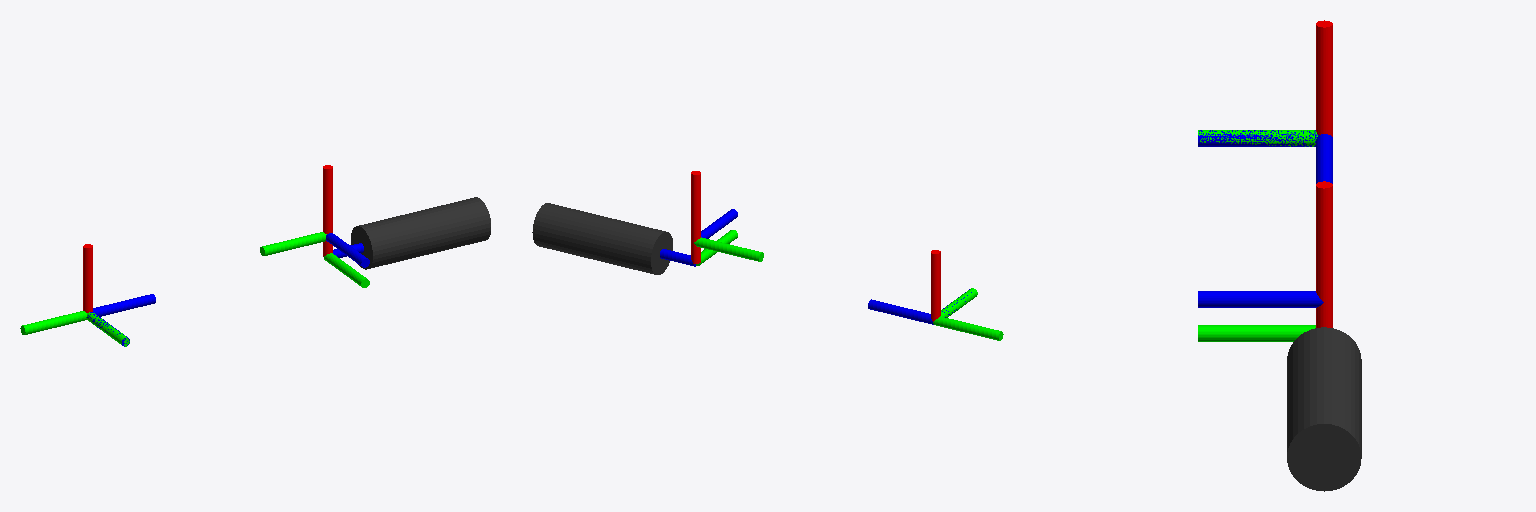
robot.urdf — wam_4dof:
<?xml version="1.0" ?>

<robot name="wam_4dof">

    <material name="dark_red">
        <color rgba="0.78 0. 0. 1."/>
    </material>

    <material name="black">
        <color rgba="0.05 0.05 0.05 1"/>
    </material>

    <material name="red">
        <color rgba="1 0 0 1"/>
    </material>

    <material name="green">
        <color rgba="0 1 0 1"/>
    </material>

    <material name="blue">
        <color rgba="0 0 1 1"/>
    </material>

    <material name="dark">
        <color rgba=".25 .25 .25 1"/>
    </material>

    <material name="lightest_grey">
        <color rgba="0.85 0.85 0.85 1"/>
    </material>

    <material name="light_grey">
        <color rgba="0.78 0.75 0.7 1"/>
    </material>

    <material name="dark_grey">
        <color rgba="0.6 0.6 0.6 1"/>
    </material>

    <link name="links/world"/>

    <link name="links/base">
        <inertial>
            <mass value="9.97059584"/>
            <origin xyz="0.1998 -0.1260 0.2053" rpy="1.5605 0.0894 0.6977"/>
            <inertia ixx="0.08709498" ixy="0." ixz="0." iyy="0.13911978" iyz="0." izz="0.18350061"/>
        </inertial>
        <visual>
            <origin xyz="0.22 0.14 0." rpy="0 0 0"/>
            <geometry name="wam_base_visual">
                <mesh filename="base_link_fine.stl"/>
            </geometry>
            <material name="light_grey"/>
        </visual>
        <collision>
            <origin xyz="0.22 0.14 0.346" rpy="0 0 0"/>
            <geometry name="wam_base_collision">
                <mesh filename="base_link_convex.stl"/>
            </geometry>
        </collision>
    </link>

    <link name="frames/0">
        <visual>
            <origin xyz="0.075 0 0" rpy="0 1.570796327 0"/>
            <geometry name="x_axis">
                <cylinder length="0.15" radius="0.01"/>
            </geometry>
            <material name="red"/>
        </visual>
        <visual>
            <origin xyz="0 0.075 0" rpy="1.570796327 0 0"/>
            <geometry name="y_axis">
                <cylinder length="0.15" radius="0.01"/>
            </geometry>
            <material name="green"/>
        </visual>
        <visual>
            <origin xyz="0 0 0.075" rpy="0 0 0"/>
            <geometry name="z_axis">
                <cylinder length="0.15" radius="0.01"/>
            </geometry>
            <material name="blue"/>
        </visual>
    </link>

    <link name="links/shoulder_yaw">
        <inertial>
            <mass value="10.76768767"/>
            <origin xyz="-0.0044 -0.0007 -0.1219" rpy="1.6016 0.0973 1.5751"/>
            <inertia ixx="0.09044192" ixy="0." ixz="0." iyy="0.11309685" iyz="0." izz="0.13508855"/>
        </inertial>
        <visual>
            <origin rpy="0 0 0" xyz="0 0 0"/>
            <geometry name="link_shoulder_yaw_visual">
                <mesh filename="shoulder_link_fine.stl"/>
            </geometry>
            <material name="light_grey"/>
        </visual>
        <collision>
            <origin rpy="0 0 0" xyz="0 0 0"/>
            <geometry name="link_shoulder_yaw_collision1">
                <mesh filename="shoulder_link_convex_decomposition_p1.stl"/>
            </geometry>
        </collision>
        <collision>
            <origin rpy="0 0 0" xyz="0 0 0"/>
            <geometry name="link_shoulder_yaw_collision2">
                <mesh filename="shoulder_link_convex_decomposition_p2.stl"/>
            </geometry>
        </collision>
        <collision>
            <origin rpy="0 0 0" xyz="0 0 0"/>
            <geometry name="link_shoulder_yaw_collision3">
                <mesh filename="shoulder_link_convex_decomposition_p3.stl"/>
            </geometry>
        </collision>
    </link>

    <link name="frames/1">
        <visual>
            <origin xyz="0.075 0 0" rpy="0 1.570796327 0"/>
            <geometry name="x_axis">
                <cylinder length="0.15" radius="0.01"/>
            </geometry>
            <material name="red"/>
        </visual>
        <visual>
            <origin xyz="0 0.075 0" rpy="1.570796327 0 0"/>
            <geometry name="y_axis">
                <cylinder length="0.15" radius="0.01"/>
            </geometry>
            <material name="green"/>
        </visual>
        <visual>
            <origin xyz="0 0 0.075" rpy="0 0 0"/>
            <geometry name="z_axis">
                <cylinder length="0.15" radius="0.01"/>
            </geometry>
            <material name="blue"/>
        </visual>
    </link>

    <link name="links/shoulder_pitch">
        <inertial>
            <mass value="3.87493756"/>
            <origin xyz="-0.0024 -0.0154 0.0311" rpy="0.5527 -0.0348 -1.5459"/>
            <inertia ixx="0.01264653" ixy="0." ixz="0." iyy="0.01671014" iyz="0." izz="0.02142072"/>
        </inertial>
        <visual>
            <origin rpy="0 0 0" xyz="0 0 0"/>
            <geometry name="link_shoulder_pitch_visual">
                <mesh filename="shoulder_pitch_link_fine.stl"/>
            </geometry>
            <material name="dark_grey"/>
        </visual>
        <collision>
            <origin rpy="0 0 0" xyz="0 0 0"/>
            <geometry name="link_shoulder_pitch_collision">
                <mesh filename="shoulder_pitch_link_convex.stl"/>
            </geometry>
        </collision>
    </link>

    <link name="frames/2">
        <visual>
            <origin xyz="0.075 0 0" rpy="0 1.570796327 0"/>
            <geometry name="x_axis">
                <cylinder length="0.15" radius="0.01"/>
            </geometry>
            <material name="red"/>
        </visual>
        <visual>
            <origin xyz="0 0.075 0" rpy="1.570796327 0 0"/>
            <geometry name="y_axis">
                <cylinder length="0.15" radius="0.01"/>
            </geometry>
            <material name="green"/>
        </visual>
        <visual>
            <origin xyz="0 0 0.075" rpy="0 0 0"/>
            <geometry name="z_axis">
                <cylinder length="0.15" radius="0.01"/>
            </geometry>
            <material name="blue"/>
        </visual>
    </link>

    <link name="links/upper_arm">
        <inertial>
            <mass value="1.80228141"/>
            <origin xyz="0.0067 0.0000 0.3425" rpy="0.3219 -1.4307 -1.8954"/>
            <inertia ixx="0.00313419" ixy="0." ixz="0." iyy="0.05922120" iyz="0." izz="0.05927132"/>
        </inertial>
        <visual>
            <origin rpy="0 0 0" xyz="0 0 0"/>
            <geometry name="link_upper_arm_visual">
                <mesh filename="upper_arm_link_fine.stl"/>
            </geometry>
            <material name="dark"/>
        </visual>
        <collision>
            <origin rpy="0 0 0" xyz="0 0 0"/>
            <geometry name="link_upper_arm_collision1">
                <mesh filename="upper_arm_link_convex_decomposition_p1.stl"/>
            </geometry>
        </collision>
        <collision>
            <origin rpy="0 0 0" xyz="0 0 0"/>
            <geometry name="link_upper_arm_collision1">
                <mesh filename="upper_arm_link_convex_decomposition_p2.stl"/>
            </geometry>
        </collision>
    </link>

    <link name="frames/3">
        <visual>
            <origin xyz="0.075 0 0" rpy="0 1.570796327 0"/>
            <geometry name="x_axis">
                <cylinder length="0.15" radius="0.01"/>
            </geometry>
            <material name="red"/>
        </visual>
        <visual>
            <origin xyz="0 0.075 0" rpy="1.570796327 0 0"/>
            <geometry name="y_axis">
                <cylinder length="0.15" radius="0.01"/>
            </geometry>
            <material name="green"/>
        </visual>
        <visual>
            <origin xyz="0 0 0.075" rpy="0 0 0"/>
            <geometry name="z_axis">
                <cylinder length="0.15" radius="0.01"/>
            </geometry>
            <material name="blue"/>
        </visual>
    </link>

    <link name="links/forearm">
        <inertial>
            <mass value="1.06513649"/>
            <origin xyz="-0.0340 -0.1405 -0.0000" rpy="0.1006 -1.4741 3.0417"/>
            <inertia ixx="0.00181989" ixy="0." ixz="0." iyy="0.01864102" iyz="0." izz="0.01891661"/>
        </inertial>
        <visual>
            <origin rpy="0 0 0" xyz="0 0 0"/>
            <geometry name="link_forearm_visual1">
                <mesh filename="elbow_link_fine.stl"/>
            </geometry>
            <material name="lightest_grey"/>
        </visual>
        <visual>
            <origin rpy="1.570796 0 0" xyz="-0.045 -0.214 0"/>
            <geometry name="link_forearm_visual2">
                <cylinder radius=".0445" length="0.272"/>
            </geometry>
            <material name="dark"/>
        </visual>
        <collision>
            <origin rpy="0 0 0" xyz="0 0 0"/>
            <geometry name="link_forearm_collision1">
                <mesh filename="elbow_link_convex.stl"/>
            </geometry>
        </collision>
        <collision>
            <origin rpy="1.570796 0 0" xyz="-0.045 -0.214 0"/>
            <geometry name="link_forearm_collision2">
                <cylinder radius=".0445" length="0.136"/>
            </geometry>
        </collision>
    </link>

    <link name="frames/4">
        <visual>
            <origin xyz="0.075 0 0" rpy="0 1.570796327 0"/>
            <geometry name="x_axis">
                <cylinder length="0.15" radius="0.01"/>
            </geometry>
            <material name="red"/>
        </visual>
        <visual>
            <origin xyz="0 0.075 0" rpy="1.570796327 0 0"/>
            <geometry name="y_axis">
                <cylinder length="0.15" radius="0.01"/>
            </geometry>
            <material name="green"/>
        </visual>
        <visual>
            <origin xyz="0 0 0.075" rpy="0 0 0"/>
            <geometry name="z_axis">
                <cylinder length="0.15" radius="0.01"/>
            </geometry>
            <material name="blue"/>
        </visual>
    </link>

    <link name="frames/5">
        <inertial>
            <mass value="0.15"/>
            <origin xyz="0 0 0"/>
            <inertia ixx="0.0000001" ixy="0." ixz="0." iyy="0.0000001" iyz="0." izz="0.0000001"/>
        </inertial>
    </link>

    <!-- JOINTS -->

    <joint name="transformations/base" type="fixed">
        <parent link="links/world"/>
        <child link="links/base"/>
        <origin xyz="0 0 1.8" rpy="0 -1.570796 3.141593"/>
    </joint>

    <joint name="transformations/frames/0" type="fixed">
        <origin xyz="0.22 0.14 0.346" rpy="0 0 0"/>
        <parent link="links/base"/>
        <child link="frames/0"/>
    </joint>

    <joint name="joints/shoulder_yaw" type="revolute">
        <origin xyz="0.22 0.14 0.346" rpy="0 0 0"/>
        <parent link="links/base"/>
        <child link="links/shoulder_yaw"/>
        <axis xyz="0 0 1"/>
        <dynamics damping="1.31174" friction="1.70477"/>
        <limit effort="1500" lower="-2.6" upper="2.6" velocity="200"/>
    </joint>

    <joint name="transformations/frames/1" type="fixed">
        <origin xyz="0. 0. 0." rpy="-1.570796 0 0"/>
        <parent link="links/shoulder_yaw"/>
        <child link="frames/1"/>
    </joint>

    <joint name="joints/shoulder_pitch" type="revolute">
        <origin xyz="0 0 0" rpy="-1.570796 0 0"/>
        <parent link="links/shoulder_yaw"/>
        <child link="links/shoulder_pitch"/>
        <axis xyz="0 0 1"/>
        <dynamics damping="0.492821" friction="1.43072"/>
        <limit effort="1250" lower="-2.0" upper="2.0" velocity="200"/>
    </joint>

    <joint name="transformations/frames/2" type="fixed">
        <origin xyz="0. 0. 0." rpy="1.570796 0 0"/>
        <parent link="links/shoulder_pitch"/>
        <child link="frames/2"/>
    </joint>

    <joint name="joints/shoulder_roll" type="revolute">
        <origin xyz="0 0 0" rpy="1.570796 0 0"/>
        <parent link="links/shoulder_pitch"/>
        <child link="links/upper_arm"/>
        <axis xyz="0 0 1"/>
        <dynamics damping="1.48827" friction="0.685072"/>
        <limit effort="400" lower="-2.8" upper="2.8" velocity="200"/>
    </joint>

    <joint name="transformations/frames/3" type="fixed">
        <origin rpy="-1.570796 0. 0." xyz="0.045 0 0.55"/>
        <parent link="links/upper_arm"/>
        <child link="frames/3"/>
    </joint>

    <joint name="joints/elbow" type="revolute">
        <origin rpy="-1.570796 0 0" xyz="0.045 0 0.55"/>
        <parent link="links/upper_arm"/>
        <child link="links/forearm"/>
        <axis xyz="0 0 1"/>
        <dynamics damping="0.150353" friction="0.854358"/>
        <limit effort="600" lower="-0.9" upper="3.14159" velocity="200"/>
    </joint>

    <joint name="transformations/frames/4" type="fixed">
        <origin rpy="1.570796 0. 0." xyz="-0.045 0 0"/>
        <parent link="links/forearm"/>
        <child link="frames/4"/>
    </joint>

    <joint name="transformations/frames/5" type="fixed">
        <origin rpy="1.570796 0. 0." xyz="-0.045 -0.35 0"/>
        <parent link="links/forearm"/>
        <child link="frames/5"/>
    </joint>

</robot>

--- Facts derived from the render (not from the file) ---
3 views of the same robot in one strip: view 1: azimuth 30°, elevation 25°; view 2: azimuth 150°, elevation 25°; view 3: azimuth 270°, elevation 25° (orthographic).
Robot: wam_4dof — 12 links, 11 joints (4 revolute, 7 fixed); root link links/world; default pose: every joint at zero.
Links seen in each view (by area): view 1: links/forearm, frames/3, frames/0, frames/4, frames/1; view 2: links/forearm, frames/0, frames/3, frames/4, frames/1; view 3: links/forearm, frames/0, frames/3, frames/4, frames/1.
Link boxes in pixels (left/top/right/bottom): links/forearm: left=351, top=197, right=490, bottom=269; frames/3: left=260, top=165, right=369, bottom=267; frames/0: left=83, top=244, right=155, bottom=346; frames/4: left=323, top=190, right=369, bottom=287; frames/1: left=20, top=246, right=129, bottom=346; links/forearm: left=532, top=203, right=672, bottom=274; frames/0: left=868, top=250, right=977, bottom=324; frames/3: left=691, top=171, right=763, bottom=261; frames/4: left=660, top=195, right=737, bottom=266; frames/1: left=932, top=250, right=1003, bottom=340; links/forearm: left=1287, top=327, right=1361, bottom=491; frames/0: left=1198, top=20, right=1332, bottom=183; frames/3: left=1198, top=181, right=1332, bottom=307; frames/4: left=1198, top=221, right=1332, bottom=341; frames/1: left=1198, top=21, right=1329, bottom=146.
Size in the robot's own frame: 1.05 by 0.1945 by 0.2395 metres.
Meshes: 5 distinct files referenced, 0 mesh visuals loaded (none loaded); not drawn: 5 (reference not matched to a file when rendering).